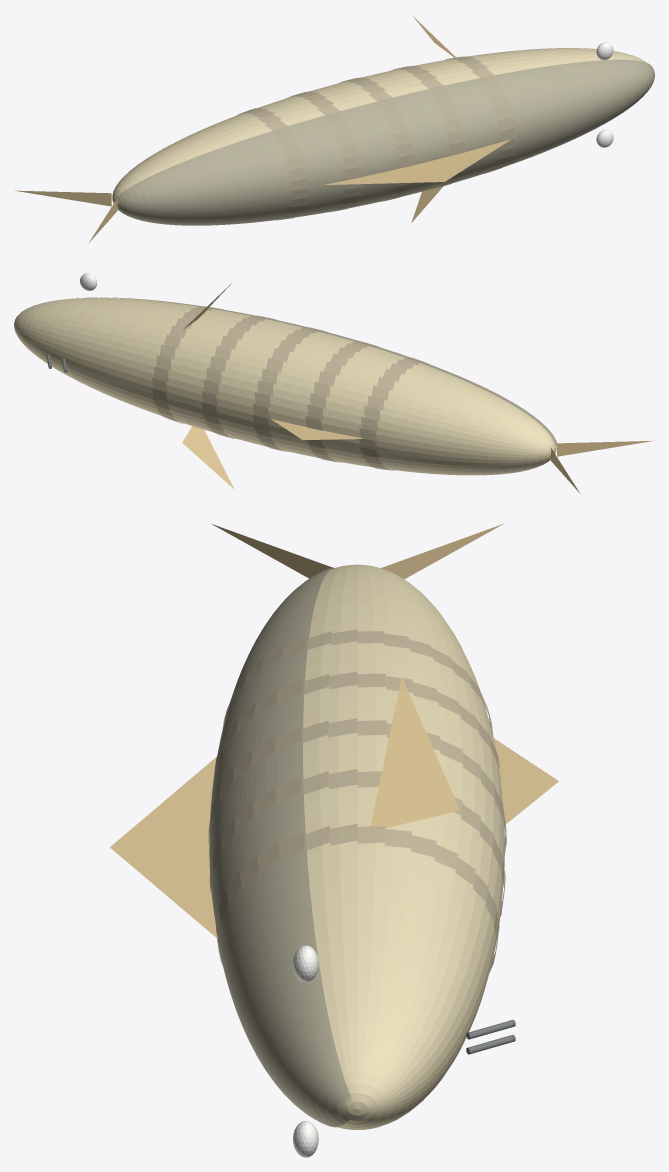
The model's file is atlantic_croaker_approx.glb.
3 views of the same model, one above another, from view 1: azimuth 30°, elevation 25°; view 2: azimuth 150°, elevation 25°; view 3: azimuth 270°, elevation 25° (orthographic). The views are drawn at different scales.
Visible parts, largest first — view 1: dusky_back, atlantic_croaker_body, dorsal_fin, croaker_subtle_bar, croaker_subtle_bar_1, croaker_subtle_bar_2, croaker_subtle_bar_4, croaker_subtle_bar_3, tail; view 2: atlantic_croaker_body, croaker_subtle_bar_2, croaker_subtle_bar, croaker_subtle_bar_3, croaker_subtle_bar_1, croaker_subtle_bar_4, dusky_back, pectoral_fin_right, tail, anal_fin; view 3: atlantic_croaker_body, dusky_back, dorsal_fin, pectoral_fin_left, croaker_subtle_bar_4, croaker_subtle_bar_2, croaker_subtle_bar_3, croaker_subtle_bar_1, croaker_subtle_bar, anal_fin, tail.
Boxes of the visible parts, box(x1,y1,x2,y2) form: dusky_back: box(115, 59, 654, 225); atlantic_croaker_body: box(112, 48, 646, 209); dorsal_fin: box(324, 139, 510, 184); croaker_subtle_bar: box(236, 107, 309, 220); croaker_subtle_bar_1: box(285, 91, 363, 212); croaker_subtle_bar_2: box(339, 77, 416, 201); croaker_subtle_bar_4: box(444, 56, 516, 173); croaker_subtle_bar_3: box(390, 65, 467, 188); tail: box(15, 190, 117, 243); atlantic_croaker_body: box(14, 297, 556, 475); croaker_subtle_bar_2: box(252, 327, 328, 451); croaker_subtle_bar: box(359, 357, 429, 470); croaker_subtle_bar_3: box(201, 315, 276, 438); croaker_subtle_bar_1: box(305, 341, 378, 462); croaker_subtle_bar_4: box(151, 306, 223, 423); dusky_back: box(72, 297, 556, 446); pectoral_fin_right: box(182, 426, 234, 489); tail: box(551, 440, 654, 494); anal_fin: box(271, 419, 363, 439); atlantic_croaker_body: box(303, 564, 504, 1129); dusky_back: box(209, 567, 351, 1127); dorsal_fin: box(110, 757, 218, 938); pectoral_fin_left: box(370, 677, 459, 828); croaker_subtle_bar_4: box(216, 823, 499, 972); croaker_subtle_bar_2: box(208, 718, 506, 852); croaker_subtle_bar_3: box(209, 769, 505, 916); croaker_subtle_bar_1: box(214, 671, 500, 773); croaker_subtle_bar: box(222, 629, 493, 736); anal_fin: box(493, 738, 558, 824); tail: box(211, 523, 502, 579).
Size of the model in its own units: 2.35 by 0.7825 by 0.7619.
